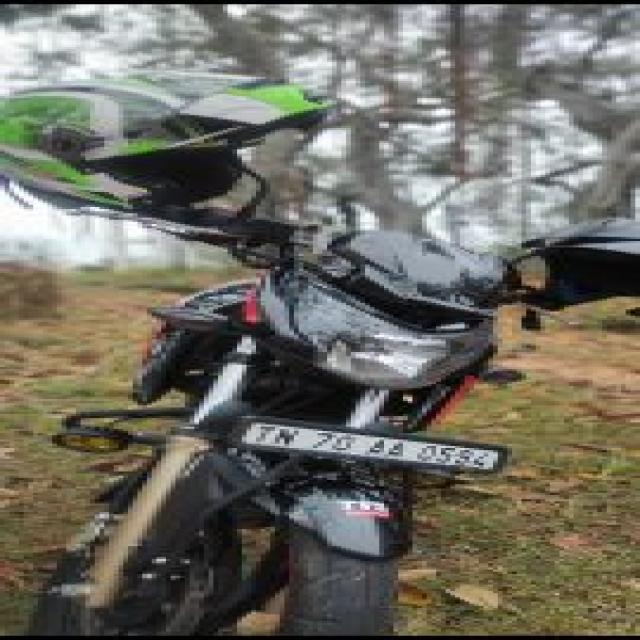number plate: (223, 414, 507, 473)
